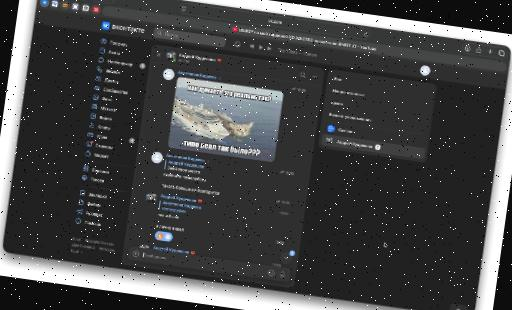vk: (1, 7, 508, 310)
